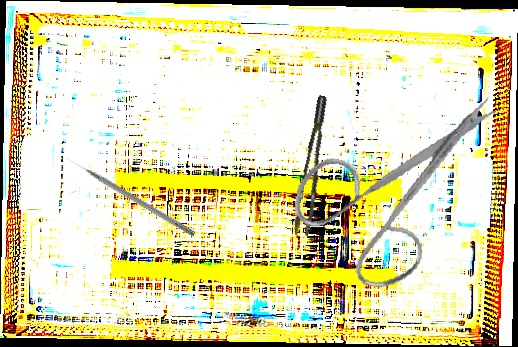Hook Surgical: (65, 154, 197, 238)
Iris Scissors: (283, 65, 501, 303)
Tissue Forceps: (280, 94, 346, 239)
